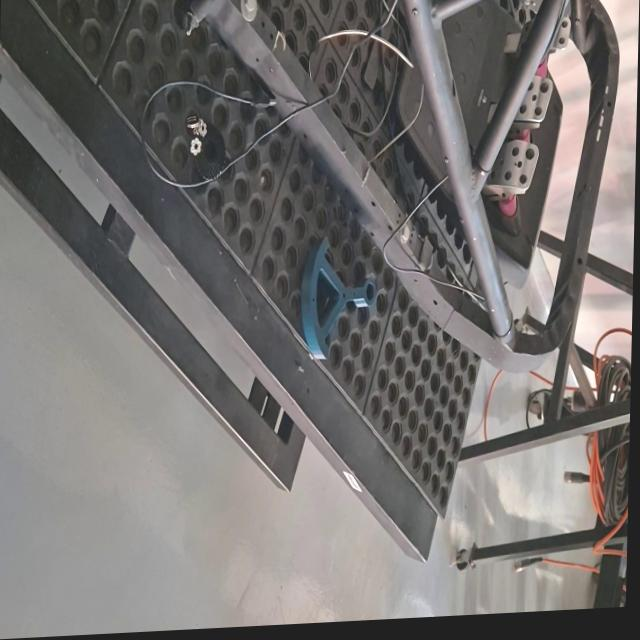haptic: (298, 232, 376, 363)
